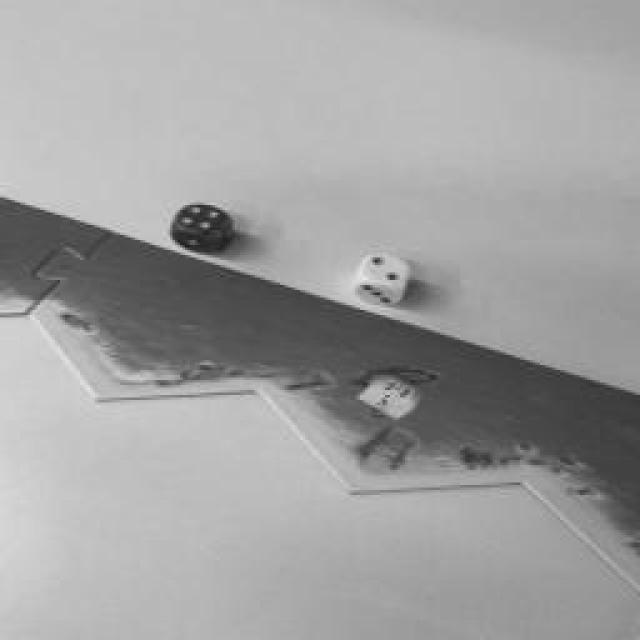dice_2: (359, 254, 411, 286)
dice_4: (172, 204, 228, 236)
